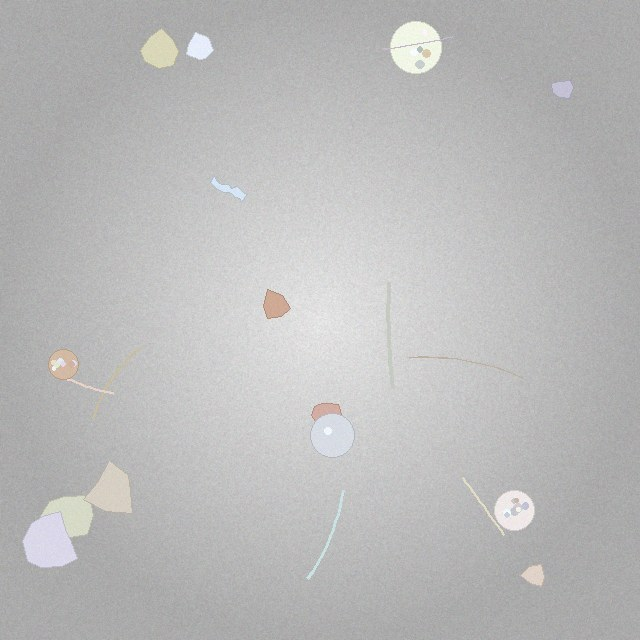fiber: (304, 487, 347, 582), (90, 345, 143, 421), (460, 475, 506, 537), (407, 355, 524, 379), (56, 371, 118, 397), (384, 278, 397, 392), (380, 35, 455, 52)
film: (211, 176, 247, 202)
foam: (390, 22, 442, 73), (494, 491, 534, 531), (49, 350, 78, 379)
fragment: (22, 511, 77, 568), (83, 460, 132, 514), (39, 496, 94, 539), (140, 28, 179, 69), (263, 289, 291, 319), (311, 403, 342, 430), (186, 33, 213, 60), (520, 565, 545, 586), (552, 81, 574, 99)
pellet: (311, 413, 354, 457)
